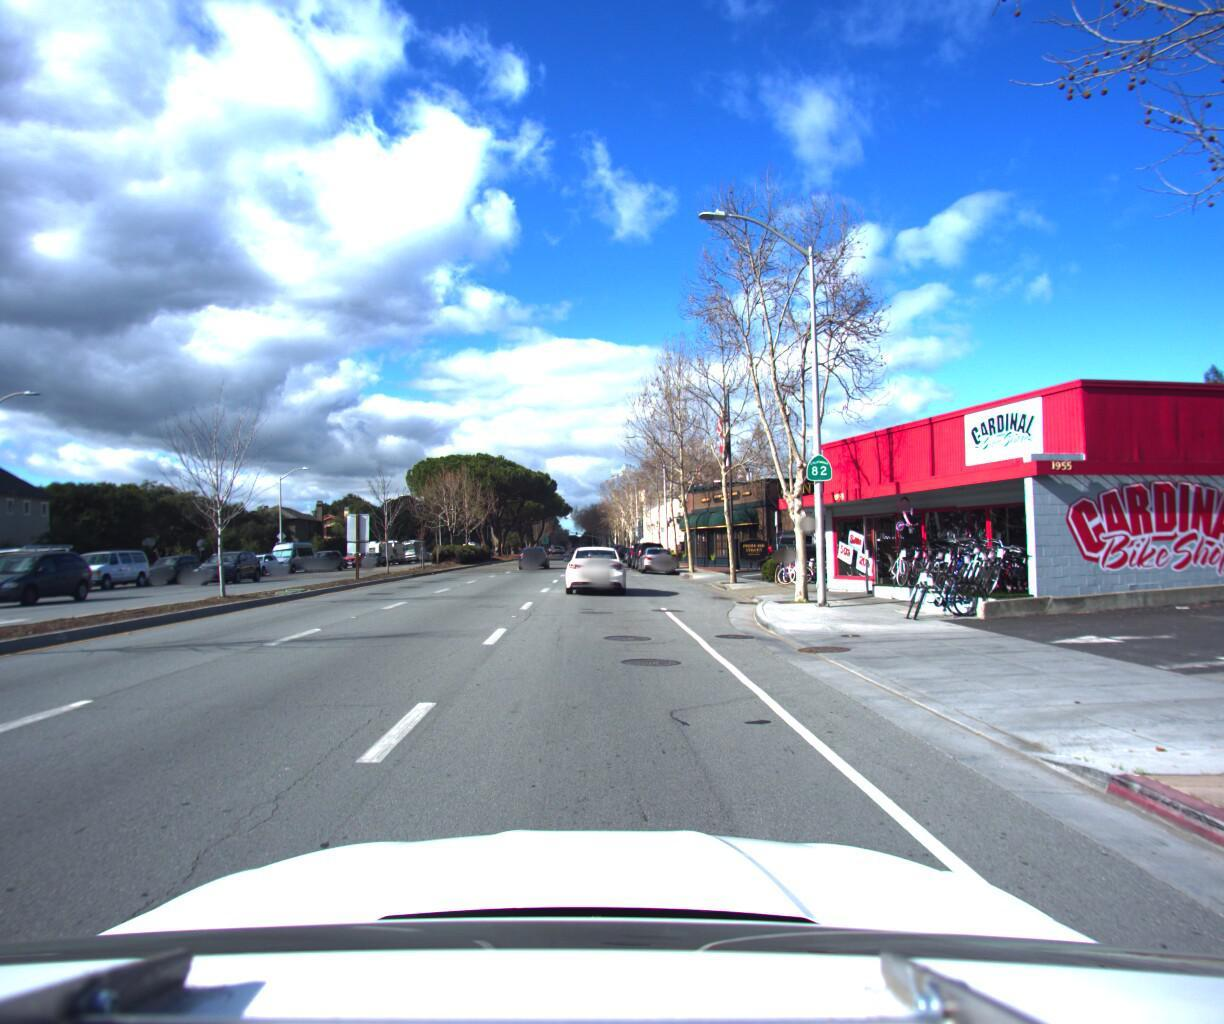bicycle: (911, 550, 984, 618), (903, 549, 975, 617), (957, 529, 1028, 595), (952, 529, 1022, 594), (948, 527, 1017, 591), (939, 527, 1007, 591), (934, 527, 1001, 590), (929, 529, 995, 591), (924, 529, 989, 590), (777, 551, 799, 579)
car: (59, 539, 159, 588), (565, 535, 627, 590), (195, 543, 271, 580), (183, 549, 252, 583), (142, 547, 212, 579), (265, 531, 320, 568), (237, 545, 286, 571), (638, 539, 678, 570), (630, 534, 669, 563), (306, 544, 347, 567), (517, 536, 550, 561)
